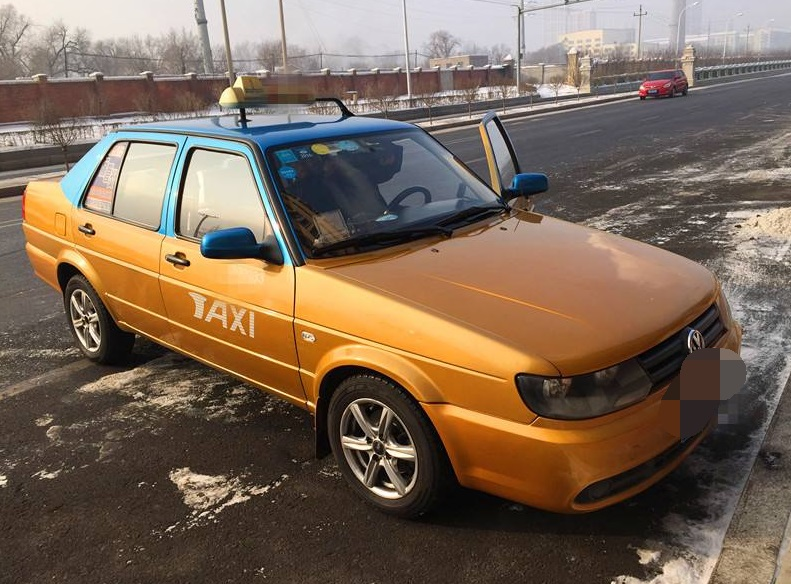taxi: (15, 73, 752, 513)
